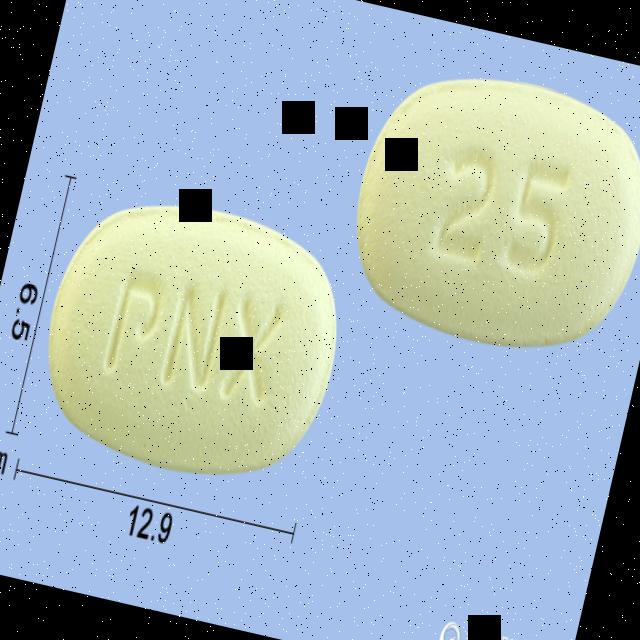Piclo Tab: (25, 182, 360, 496), (332, 51, 640, 374)
